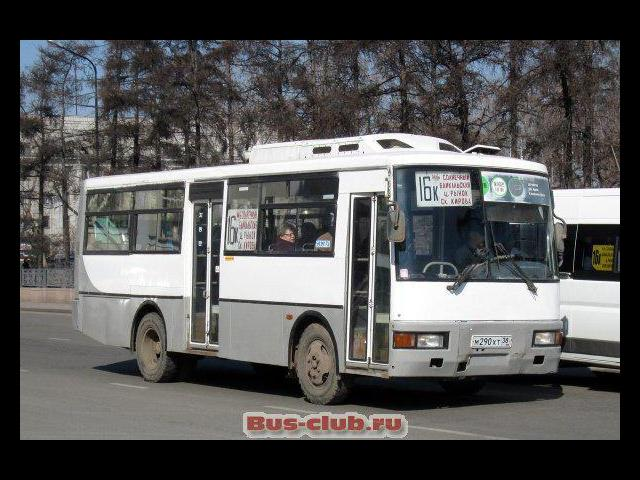bus: (66, 132, 564, 412)
